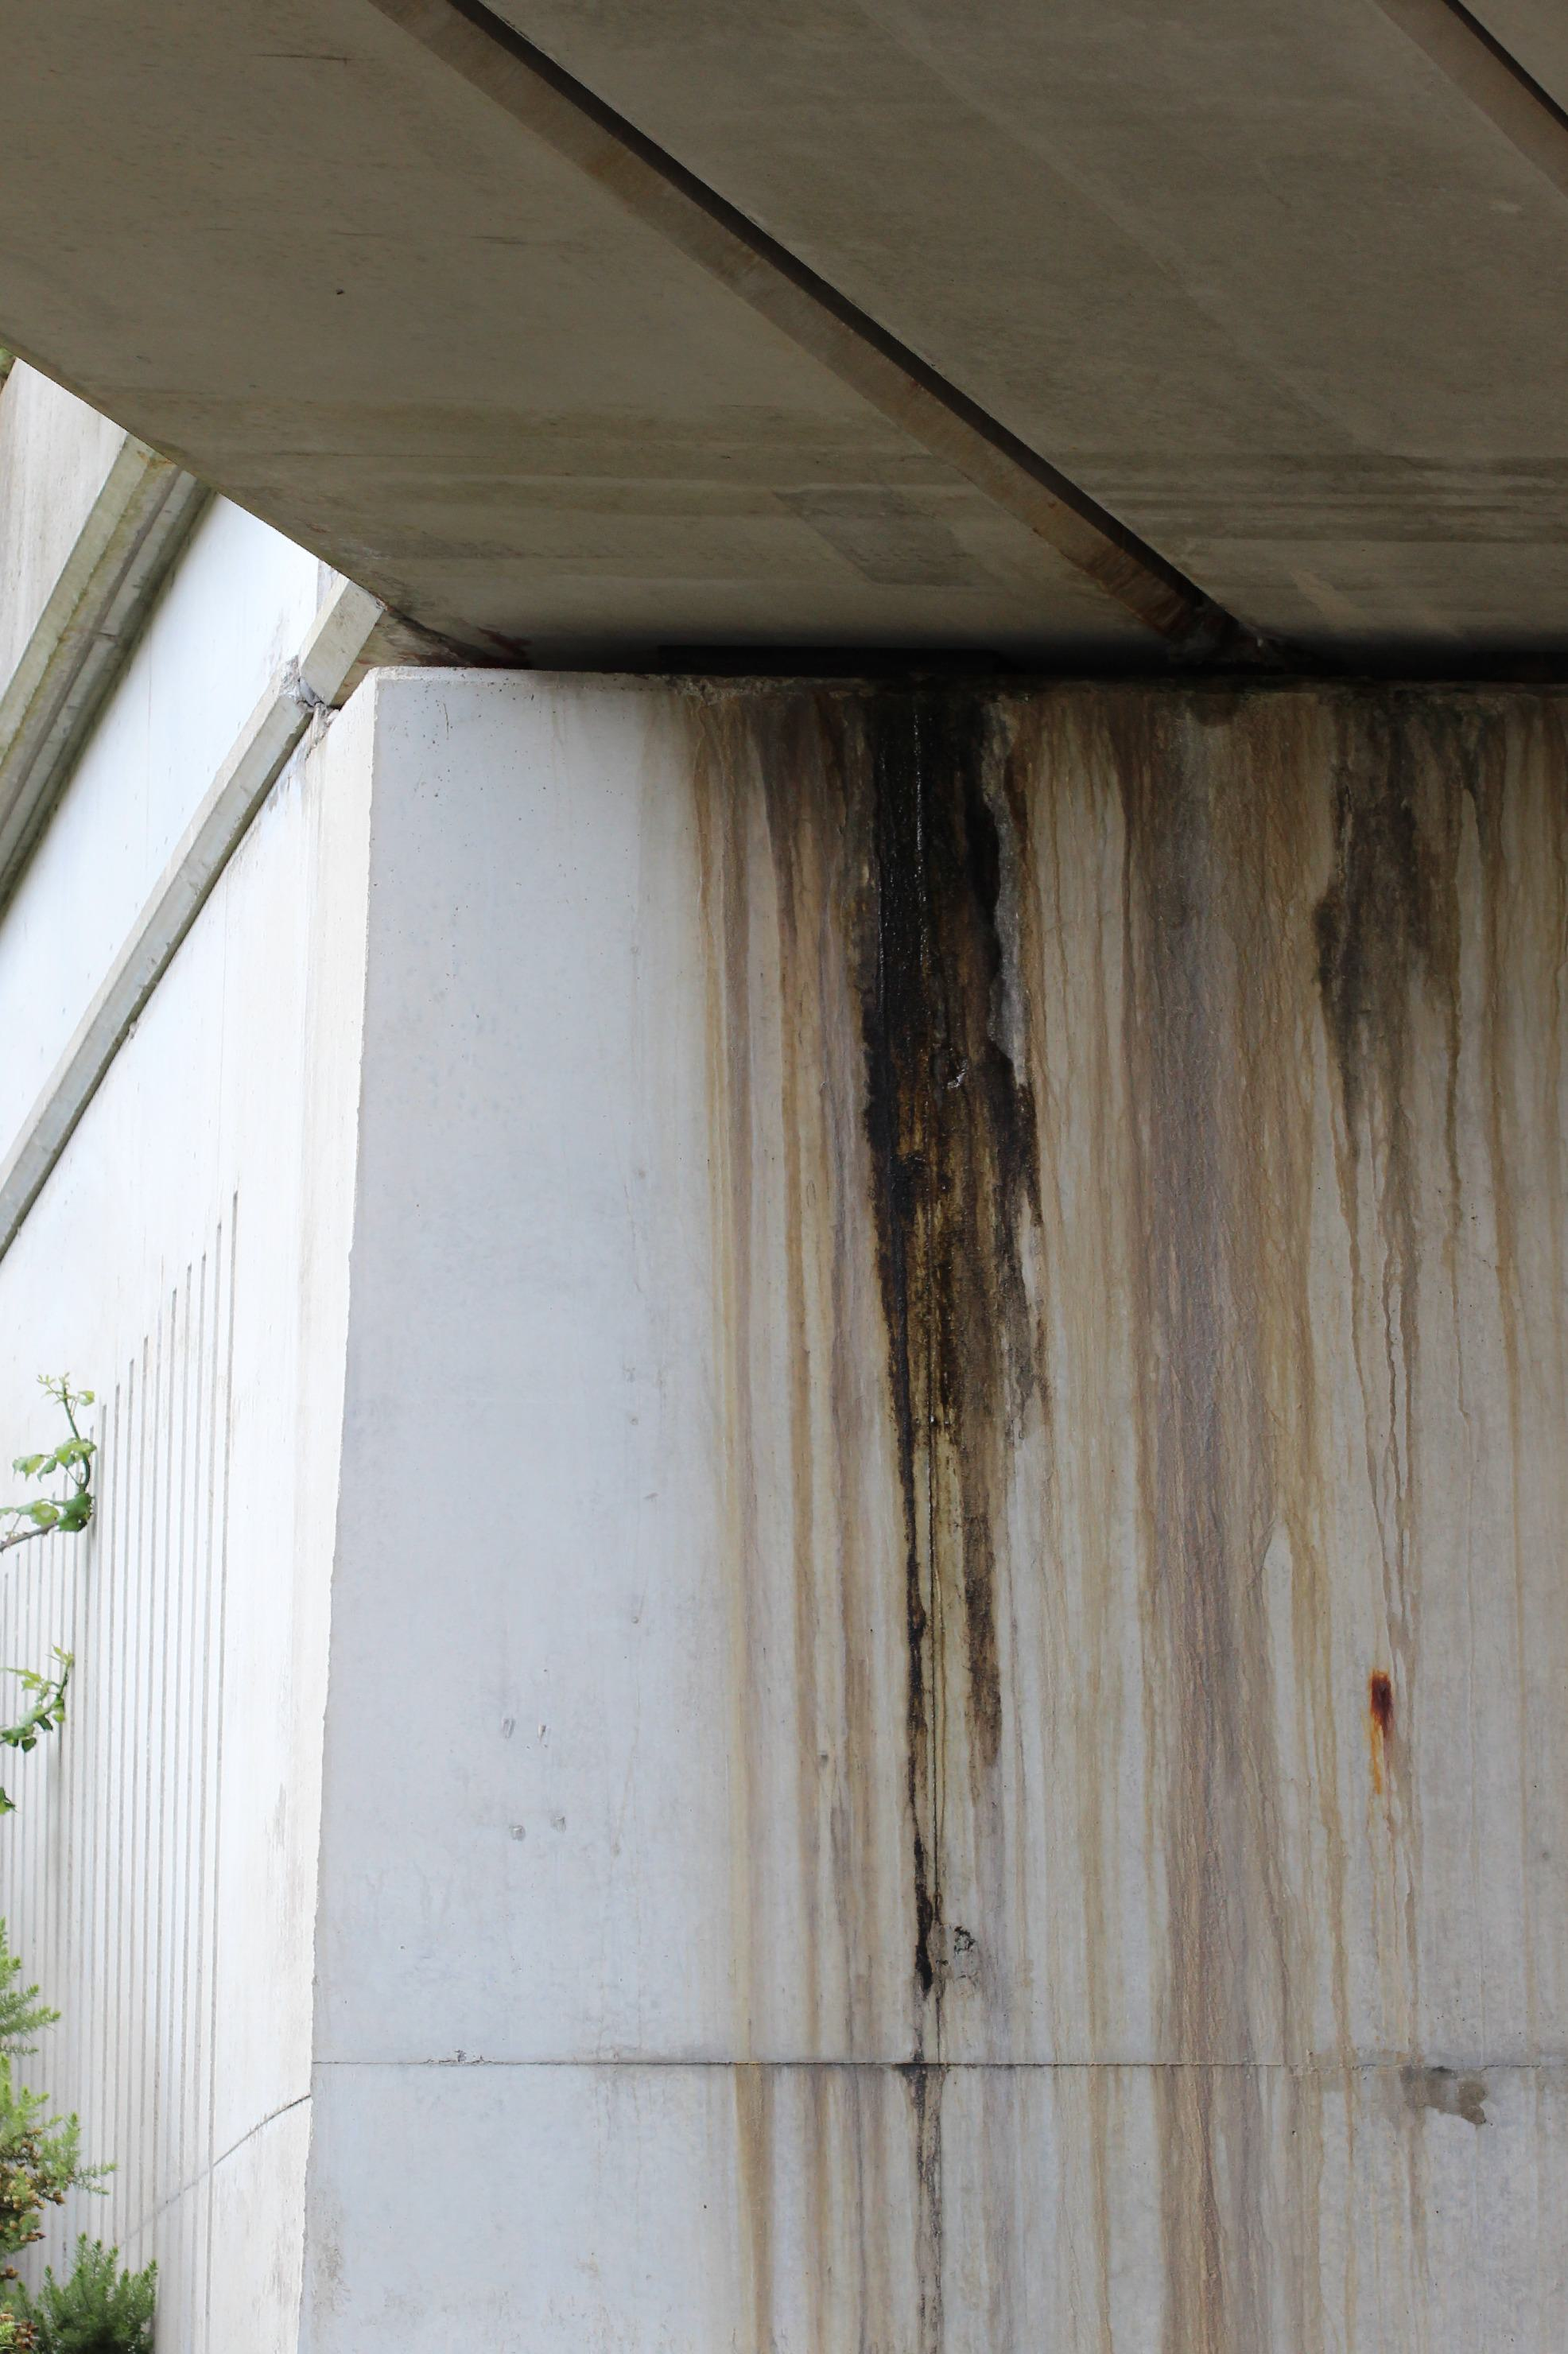Corrosion: (679, 667, 1568, 2354), (1368, 1668, 1395, 1799)
